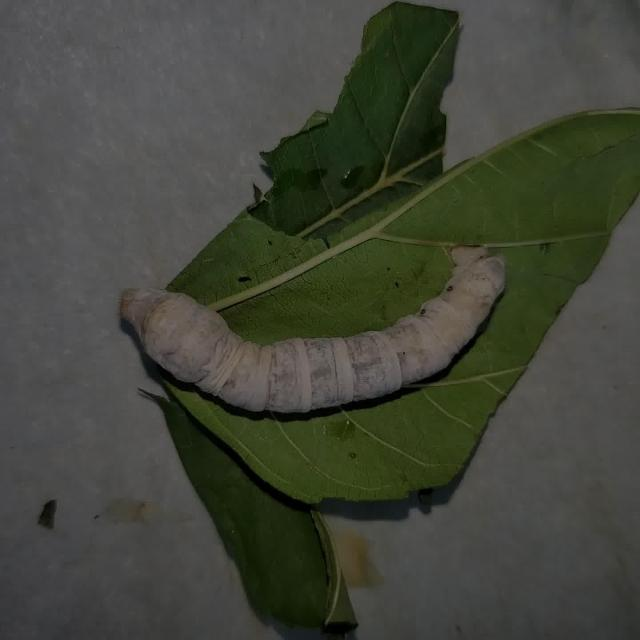Grasserie: (110, 208, 517, 452)
